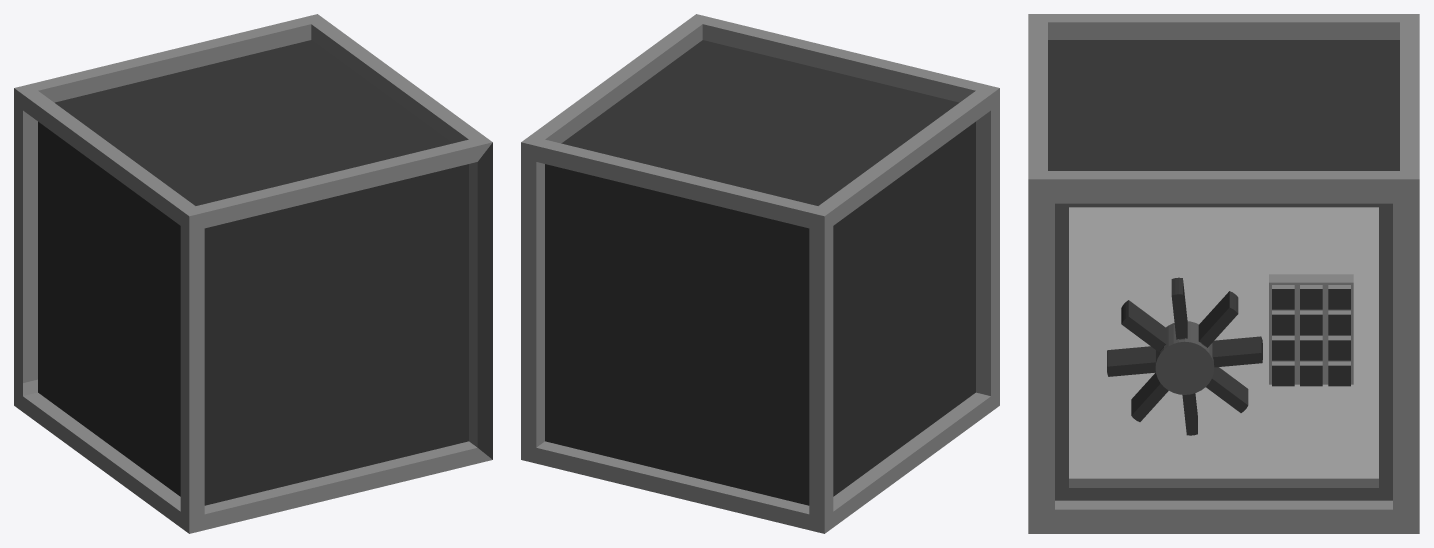
File: Vault.fbx
The picture shows the model from 3 angles, left to right: view 1: azimuth 30°, elevation 25°; view 2: azimuth 150°, elevation 25°; view 3: azimuth 270°, elevation 25°; orthographic projection. The views are drawn at different scales.
Parts seen in each view (by area): view 1: Cube; view 2: Cube; view 3: Cube.
Boxes of the visible parts, bbox=[...] form: Cube: bbox=[14, 14, 492, 533]; Cube: bbox=[521, 14, 999, 533]; Cube: bbox=[1028, 14, 1419, 533].
Bounding box in the file's own units: 2.14 × 2 × 2.
